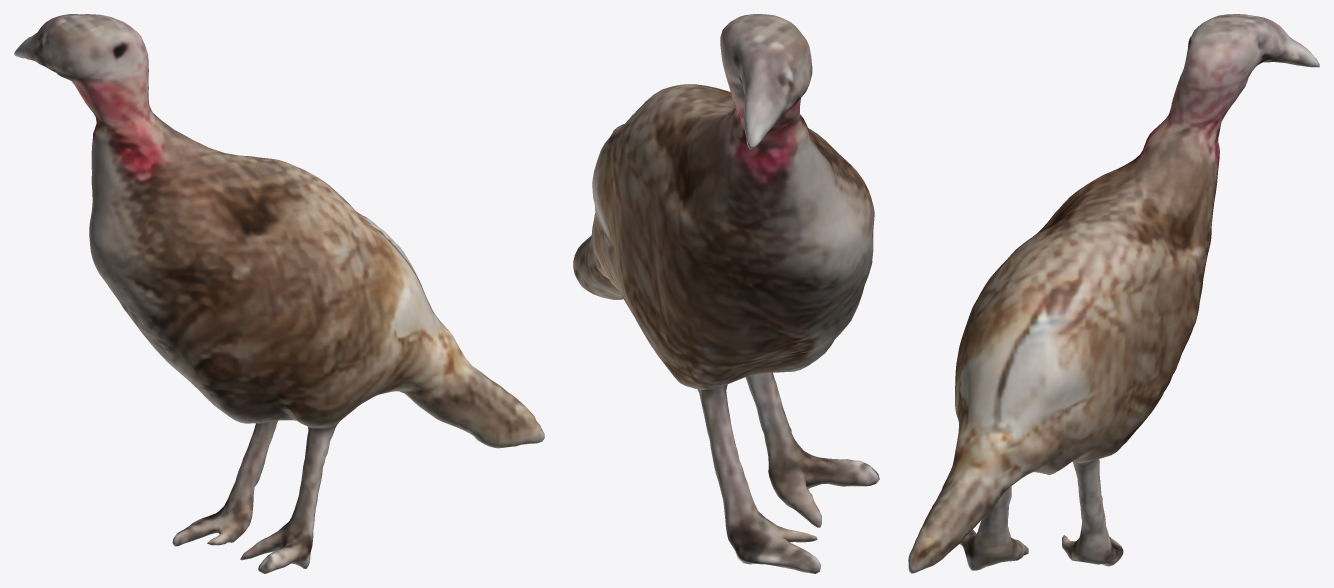
The model's file is joven.glb.
3 views of the same model, side by side, from view 1: azimuth 30°, elevation 25°; view 2: azimuth 150°, elevation 25°; view 3: azimuth 270°, elevation 25° (orthographic). The views are drawn at different scales.
Parts seen in each view (by area): view 1: mesh; view 2: mesh; view 3: mesh.
Part boxes in pixels (x1,y1,x2,y2): mesh: [14, 14, 544, 573]; mesh: [573, 14, 879, 573]; mesh: [908, 14, 1319, 573].
Size of the model in its own units: 1.13 by 1.54 by 1.13.
Materials: 1 (1 with a texture image).
